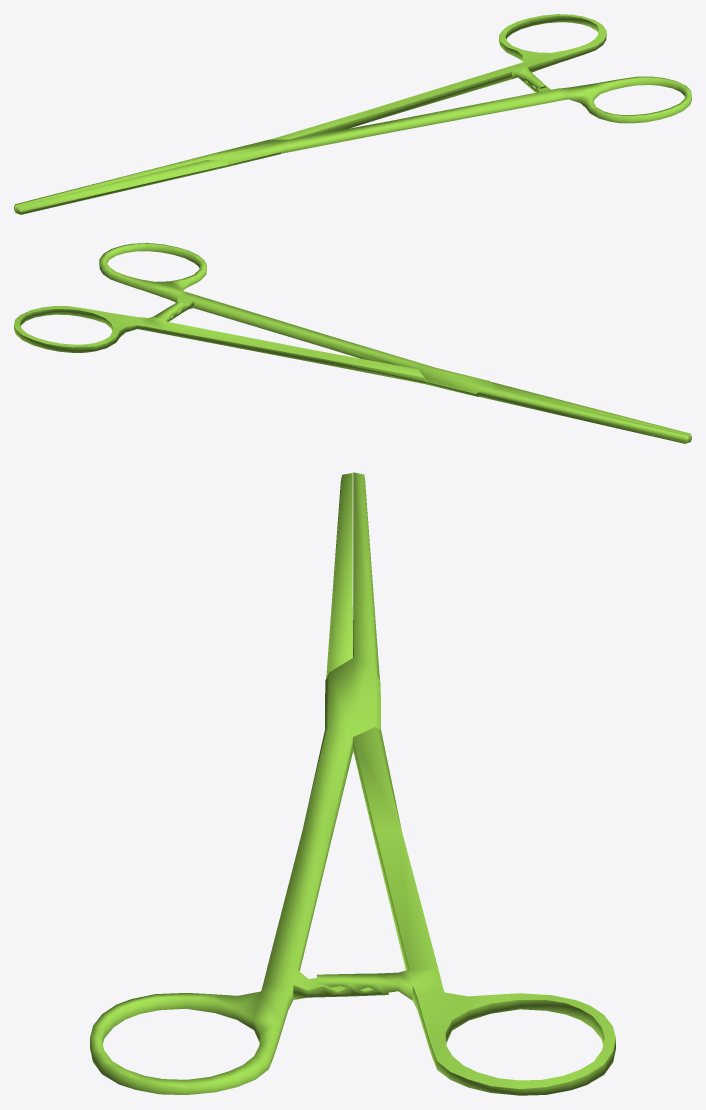
File: SM_Morgue_Scissors_6.FBX
3 renders of one model, top to bottom at view 1: azimuth 30°, elevation 25°; view 2: azimuth 150°, elevation 25°; view 3: azimuth 270°, elevation 25°, orthographic. The views are drawn at different scales.
Visible parts, largest first — view 1: Morgue_Scissors_6_element_1, Morgue_Scissors_6_element_2; view 2: Morgue_Scissors_6_element_2, Morgue_Scissors_6_element_1; view 3: Morgue_Scissors_6_element_2, Morgue_Scissors_6_element_1.
Boxes of the visible parts, left/top/right/bottom form: Morgue_Scissors_6_element_1: left=15, top=14, right=606, bottom=214; Morgue_Scissors_6_element_2: left=14, top=76, right=691, bottom=211; Morgue_Scissors_6_element_2: left=99, top=243, right=690, bottom=443; Morgue_Scissors_6_element_1: left=14, top=302, right=691, bottom=442; Morgue_Scissors_6_element_2: left=90, top=472, right=388, bottom=1094; Morgue_Scissors_6_element_1: left=316, top=473, right=615, bottom=1095.
Bounding box in the file's own units: 23.77 × 0.2983 × 8.6.
